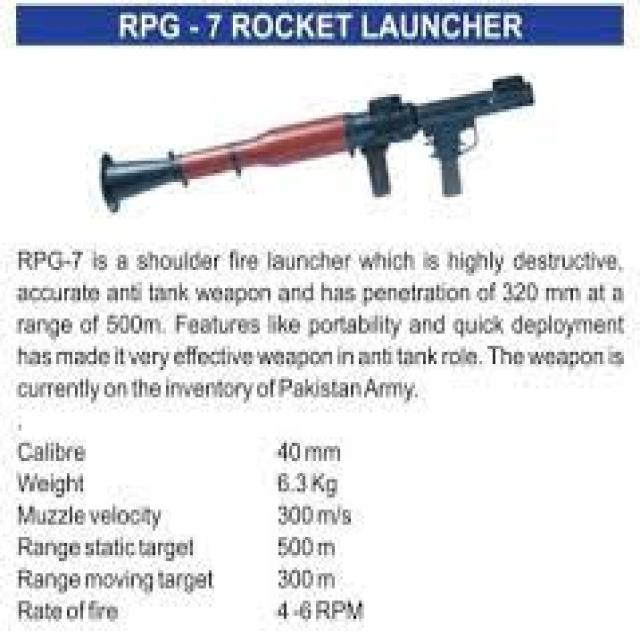Gun: (66, 68, 634, 201)
